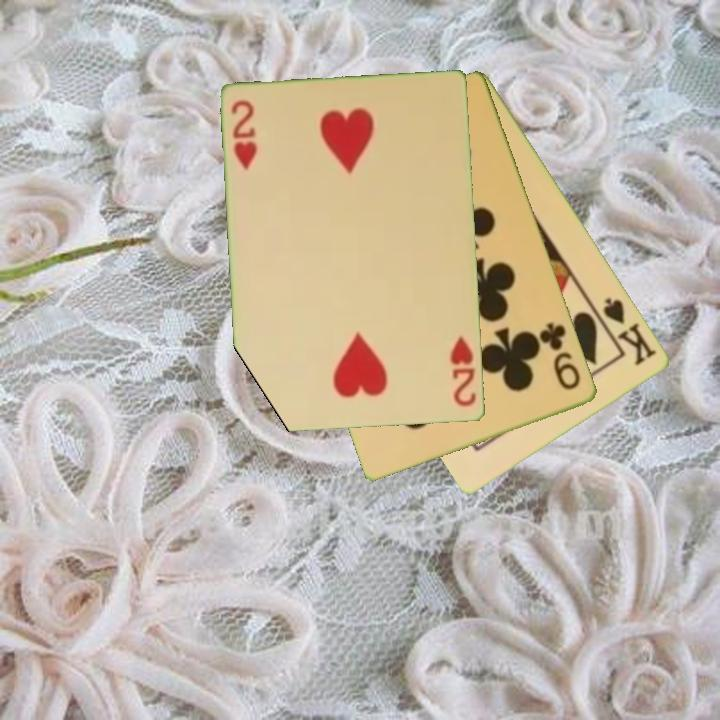2h: (447, 332, 479, 410), (228, 97, 260, 173)
9c: (536, 318, 584, 393)
Ks: (600, 294, 660, 369)
